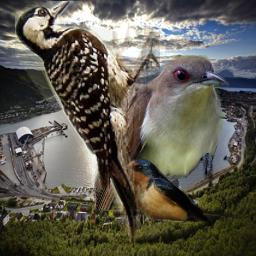Cuckoo: (94, 55, 229, 210)
Swallow: (119, 159, 246, 222)
Woodpecker: (15, 1, 160, 245)
